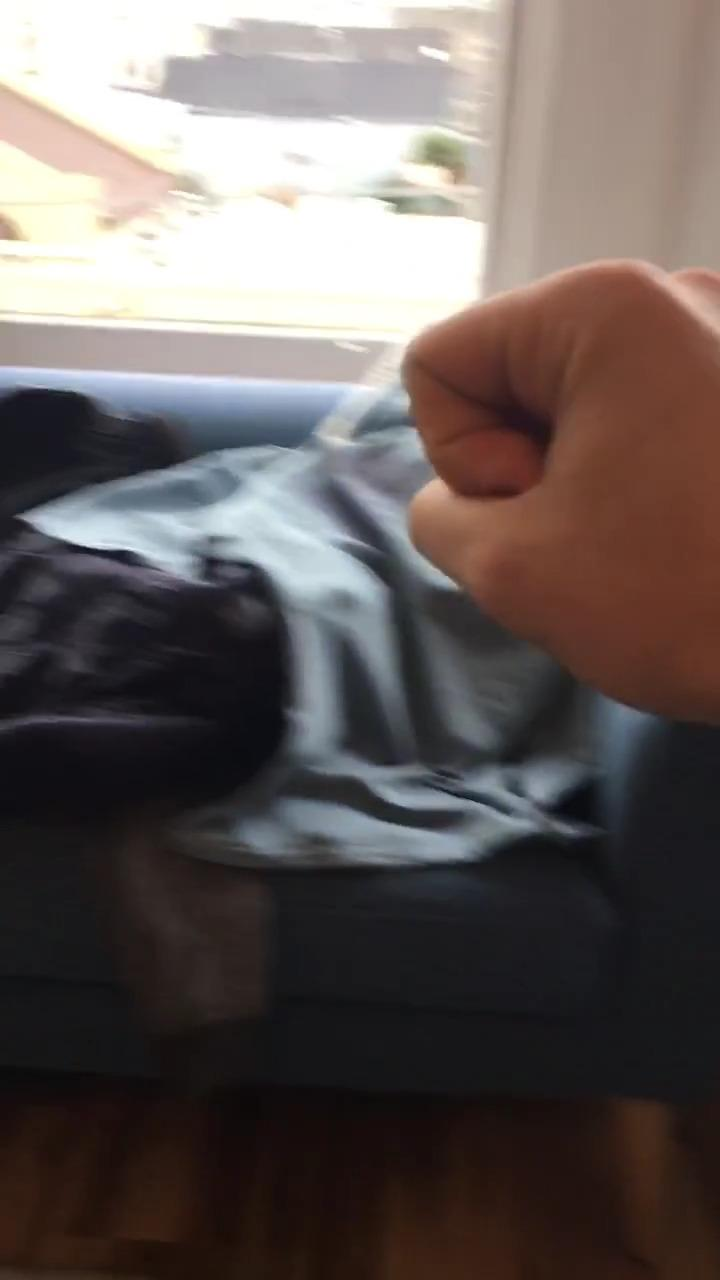Rock: (386, 256, 720, 727)
